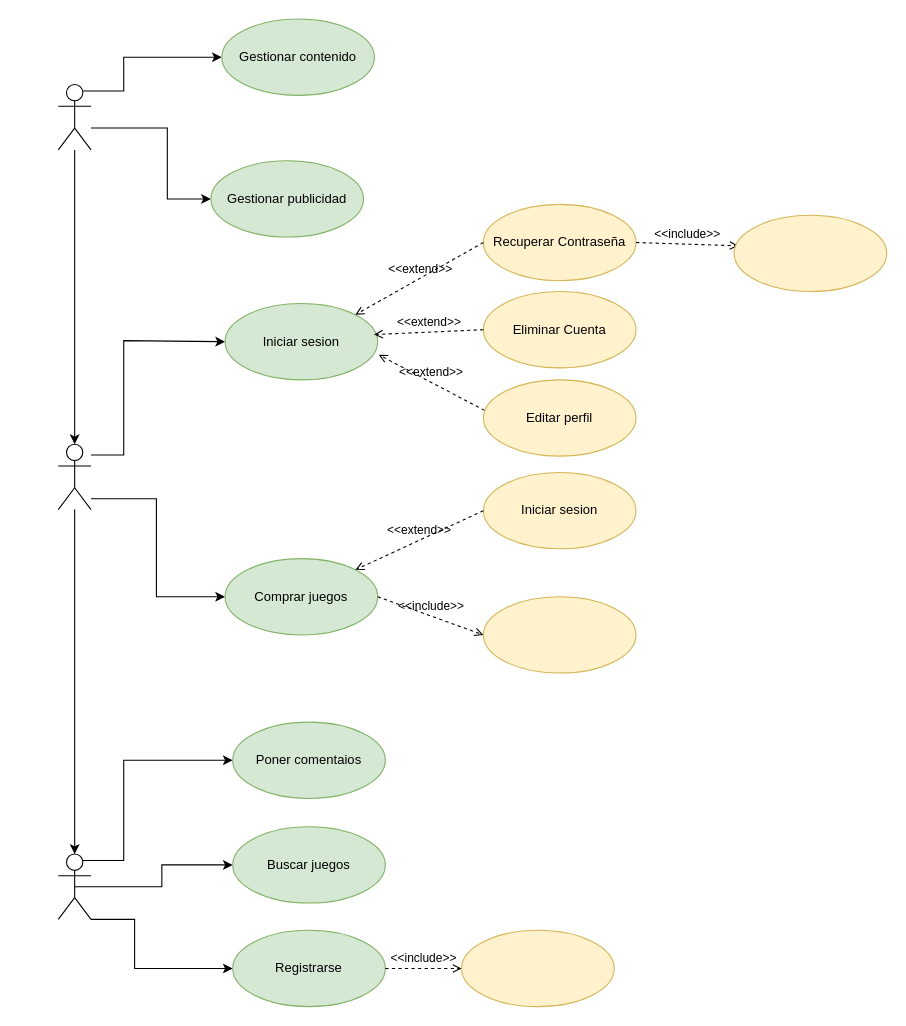
Image size: 906x1026. Some labels were removed from this diagram. Each missing label, with the centre of its shape:
"Admisnistrador" belongs at (x=74, y=116).
"Email" belongs at (x=810, y=253).
"Notificar compra" belongs at (x=559, y=634).
"Usuario General" belongs at (x=74, y=886).
"Usuario Registrado" belongs at (x=74, y=476).
"Validar cuenta" belongs at (x=537, y=968).
